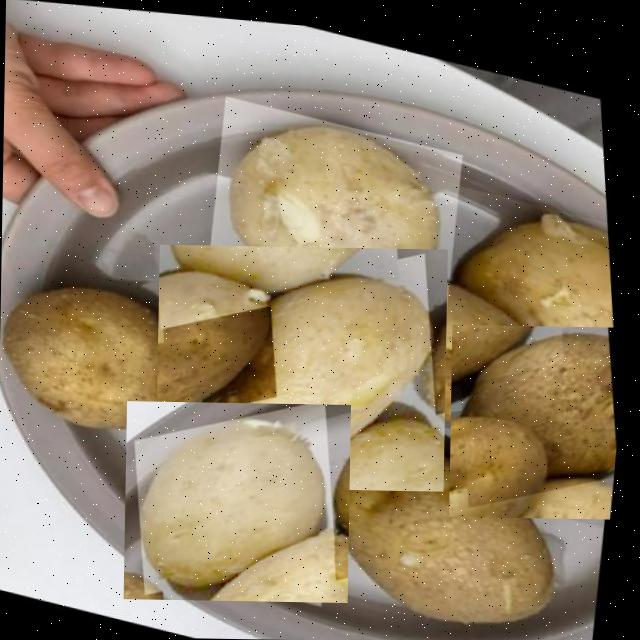Potato: (155, 244, 447, 491), (202, 90, 482, 329), (309, 419, 574, 640), (321, 247, 574, 445), (124, 400, 350, 602), (0, 254, 203, 449), (435, 176, 625, 381), (449, 324, 630, 520)
